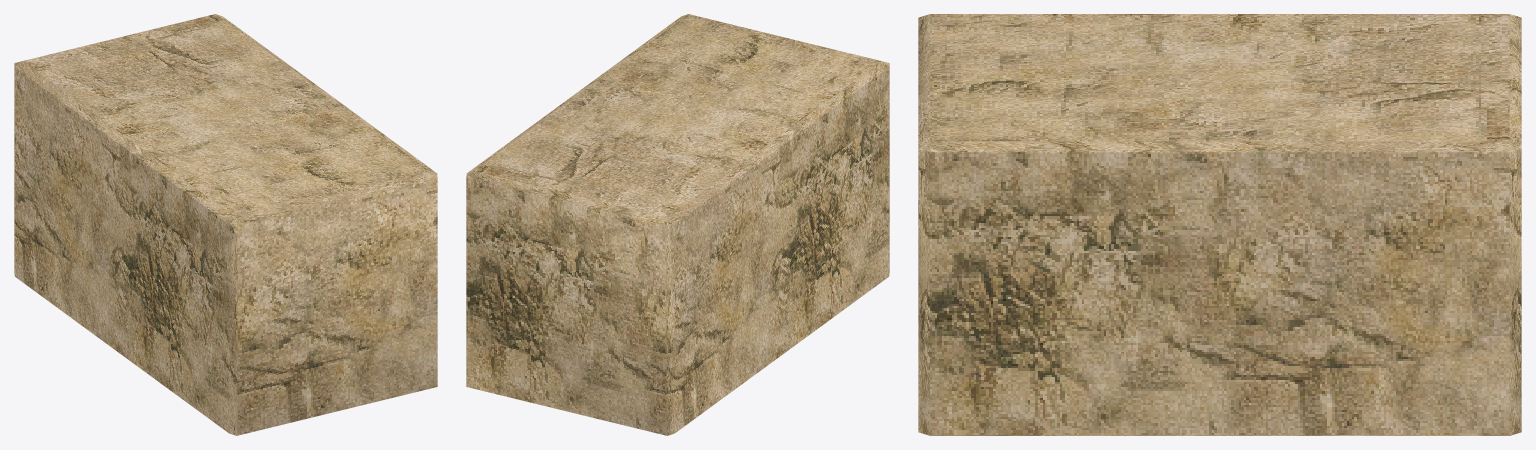
Rendered from stage-ruin-p2-494.glb.
3 views of the same model, side by side, from view 1: azimuth 30°, elevation 25°; view 2: azimuth 150°, elevation 25°; view 3: azimuth 270°, elevation 25° (orthographic). The views are drawn at different scales.
Size of the model in its own units: 4.25 by 4.25 by 7.9.
Materials: 1 (1 with a texture image).
